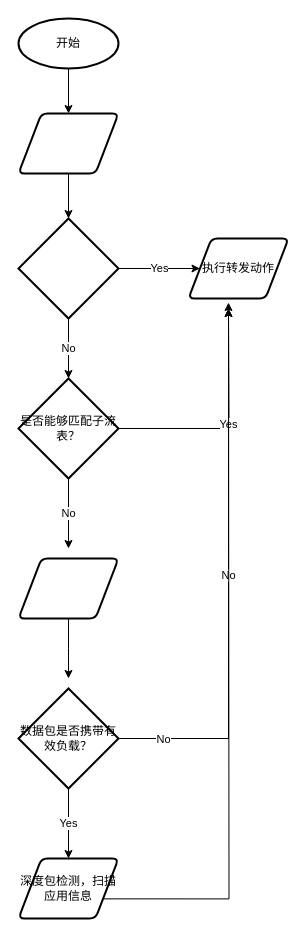
This 306x936 diagram has some shape labels left out. The centre of each missing label's shape, as x and y in pixels:
"OpenFlow流表翻译，得到执行动作" belongs at pixel 68 588.
"从端口接收数据，提取数据包头信息" belongs at pixel 68 143.
"是否能够匹配精确流表？" belongs at pixel 68 268.
